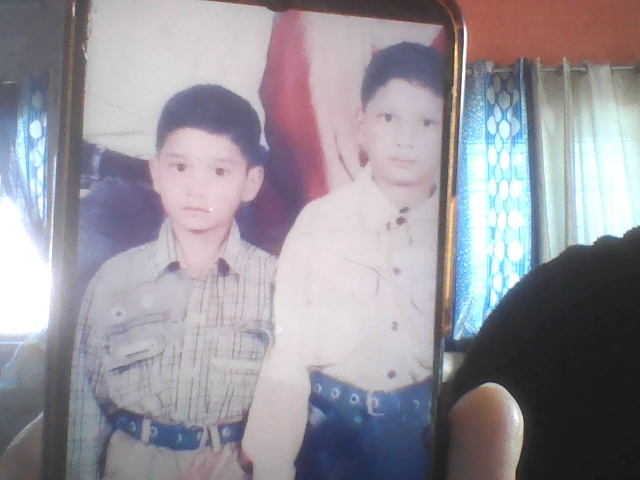fake: (314, 0, 468, 219), (151, 91, 265, 252)
